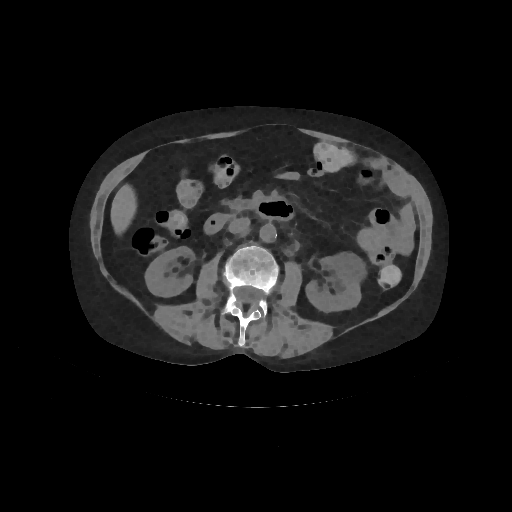Lesion: (317, 250, 368, 290)
